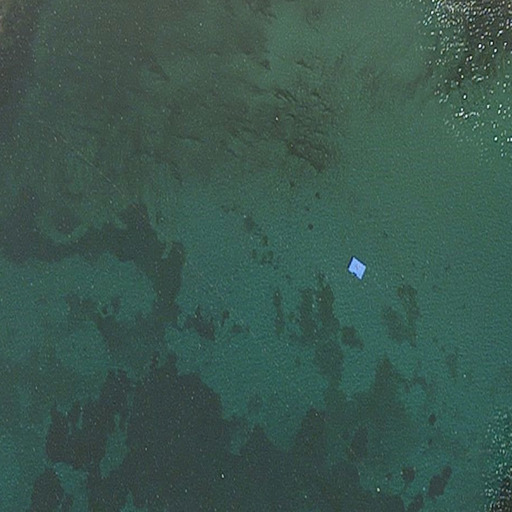ship: (347, 256, 367, 281)
